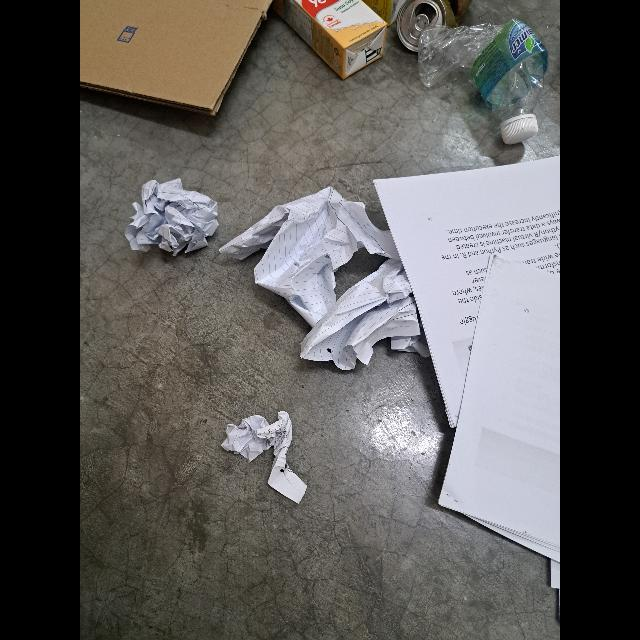aba de lata: (408, 14, 428, 42)
caixinha: (276, 0, 389, 80)
garrafa plástica: (417, 19, 549, 120)
lata: (396, 0, 470, 50)
papel: (372, 156, 560, 432), (438, 253, 560, 591), (220, 187, 400, 326), (299, 258, 431, 370), (221, 410, 307, 504), (126, 178, 220, 256)
papelão: (80, 0, 274, 121)
tampa plástica: (500, 118, 538, 144)
